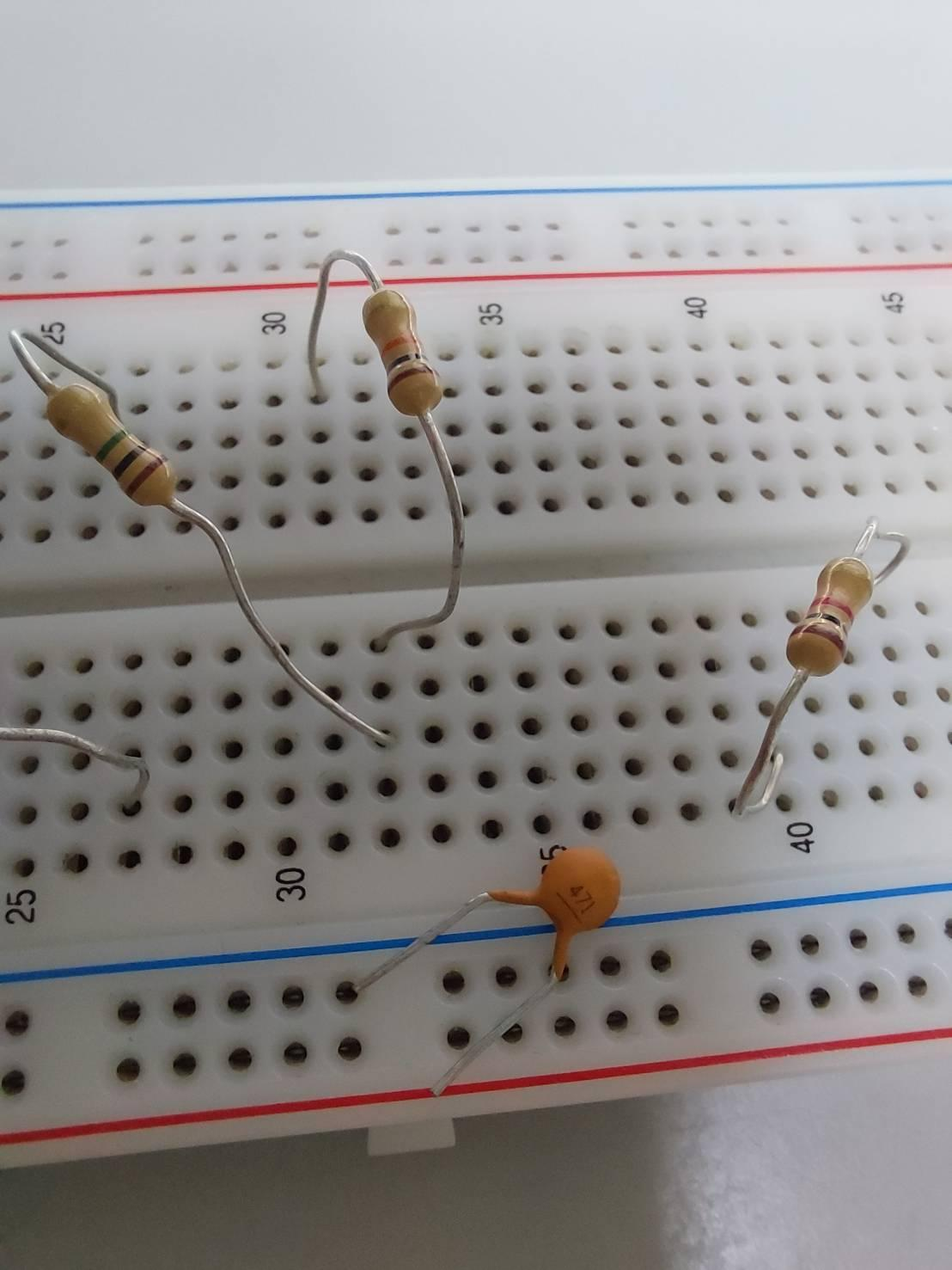resistor: (52, 378, 177, 509), (784, 559, 871, 684), (357, 289, 443, 413)
